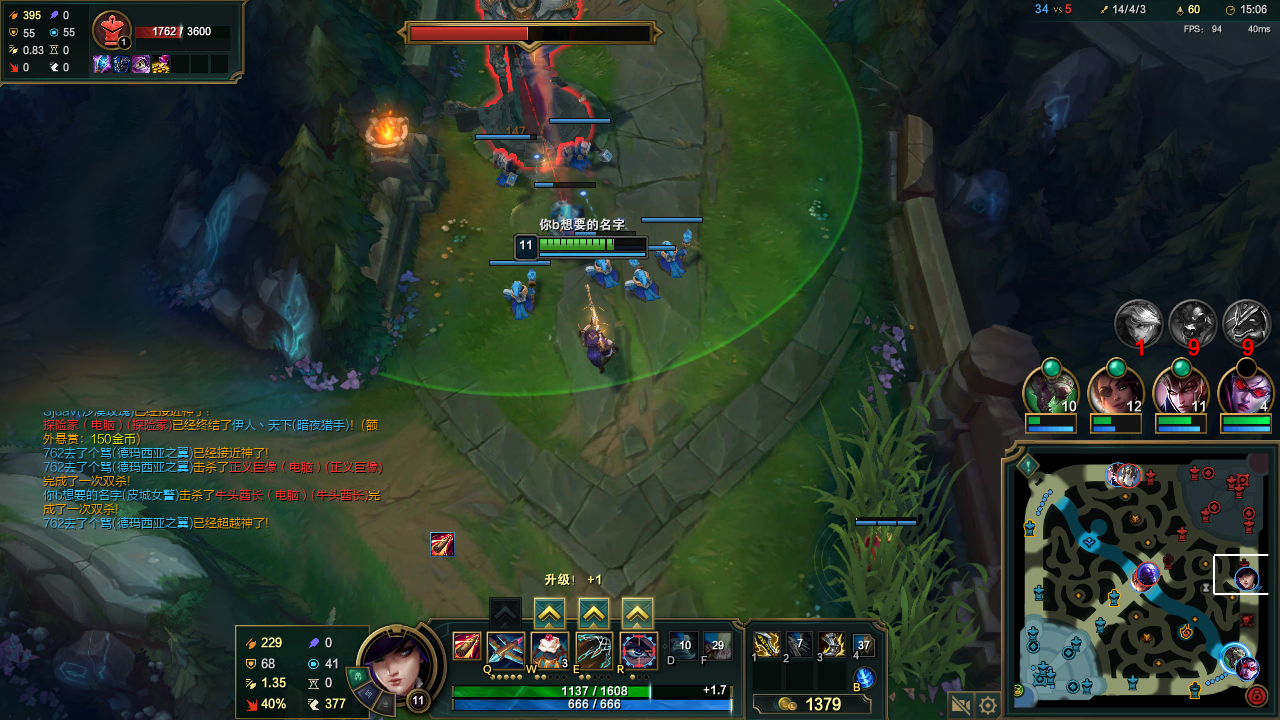DFFYT: (407, 26, 630, 162)
Shenji: (584, 599, 604, 625), (540, 605, 562, 624)
Tuijianshengji: (625, 605, 653, 624)
WFXB: (540, 198, 594, 239), (619, 267, 660, 302), (559, 139, 601, 168), (504, 275, 535, 308), (487, 154, 522, 183), (658, 245, 688, 272), (590, 266, 615, 286)
